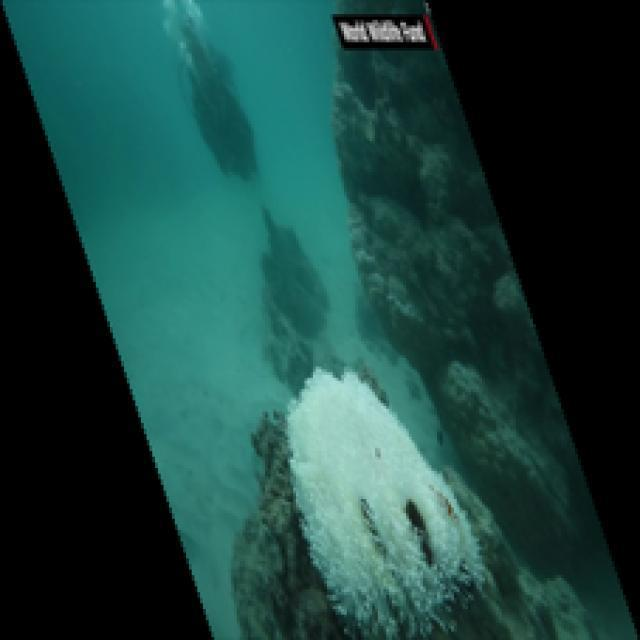Bleached: (288, 364, 486, 640)
